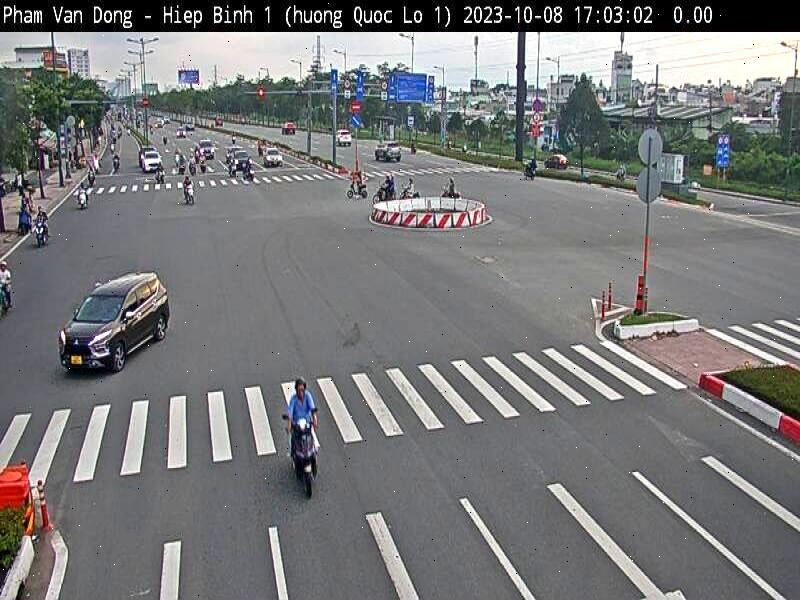car: (59, 272, 171, 377)
motorcycle: (290, 416, 321, 502)
